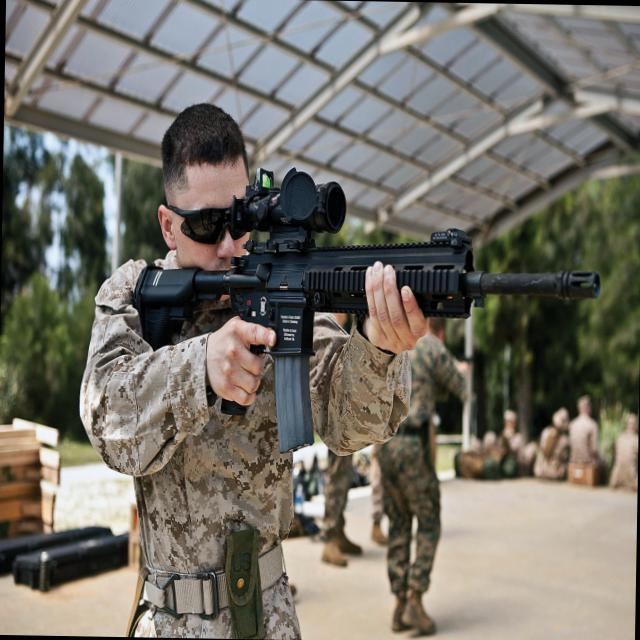long weapon: (118, 191, 619, 410)
